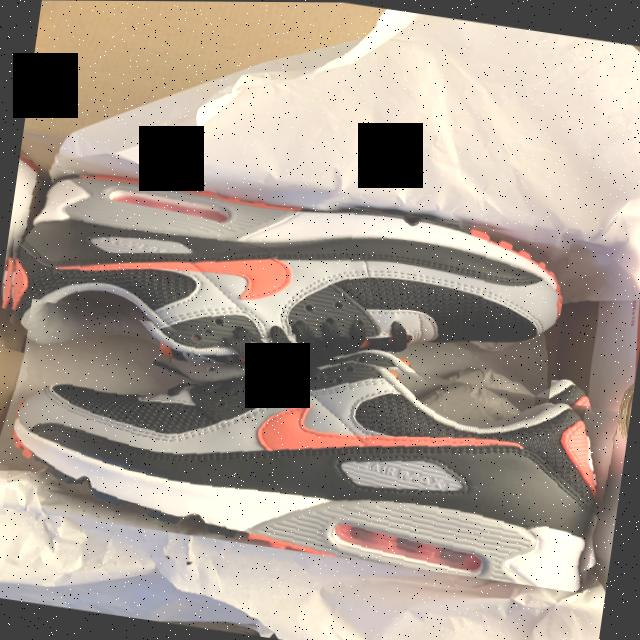shoe: (3, 299, 624, 595), (0, 155, 571, 412)
